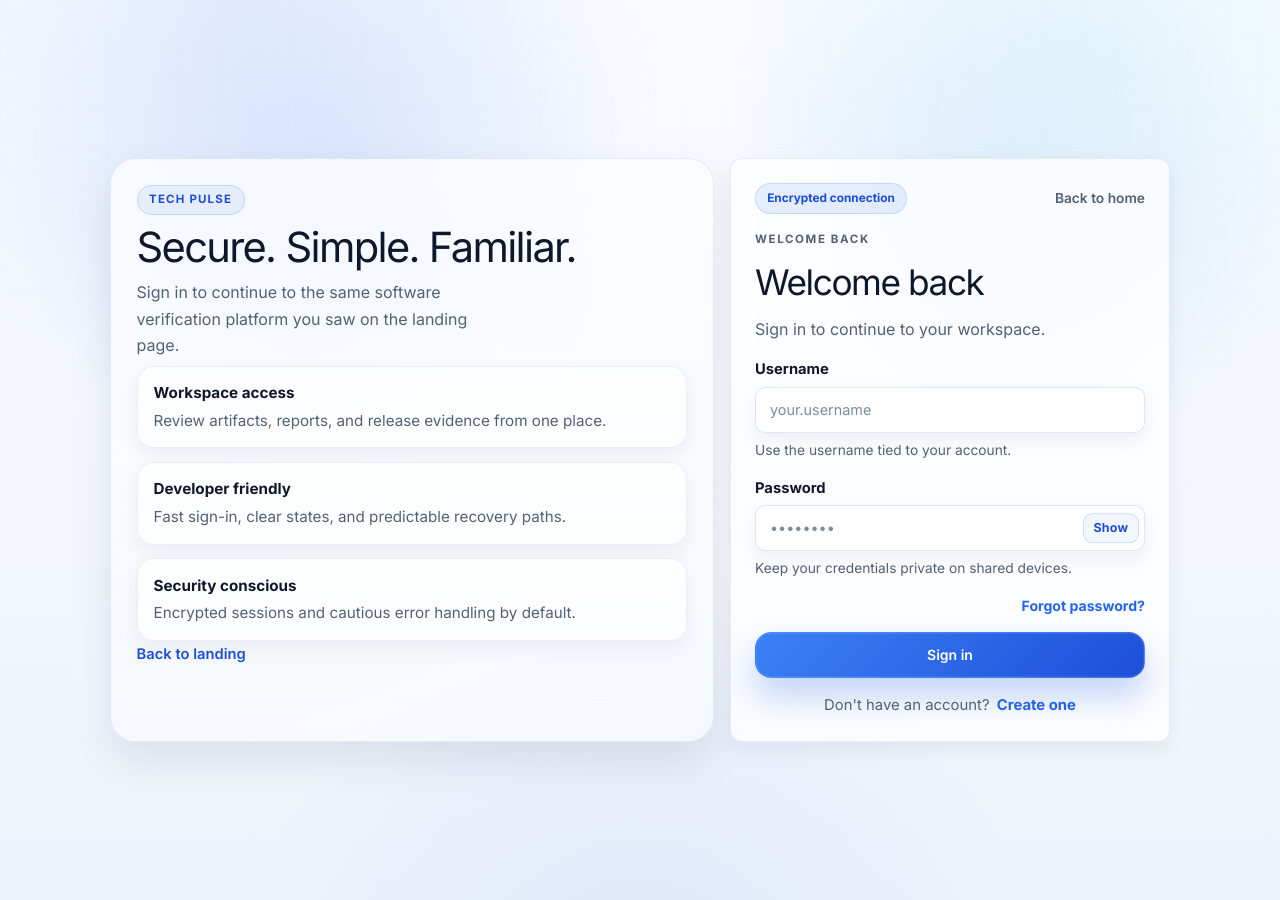
Test: LoginRoutePage › shows an invalid credential notice on 401
This screenshot has width=1280, height=900.
In the field labelled "Username": {"x": 950, "y": 410} [755, 387, 1145, 433], type "ada"
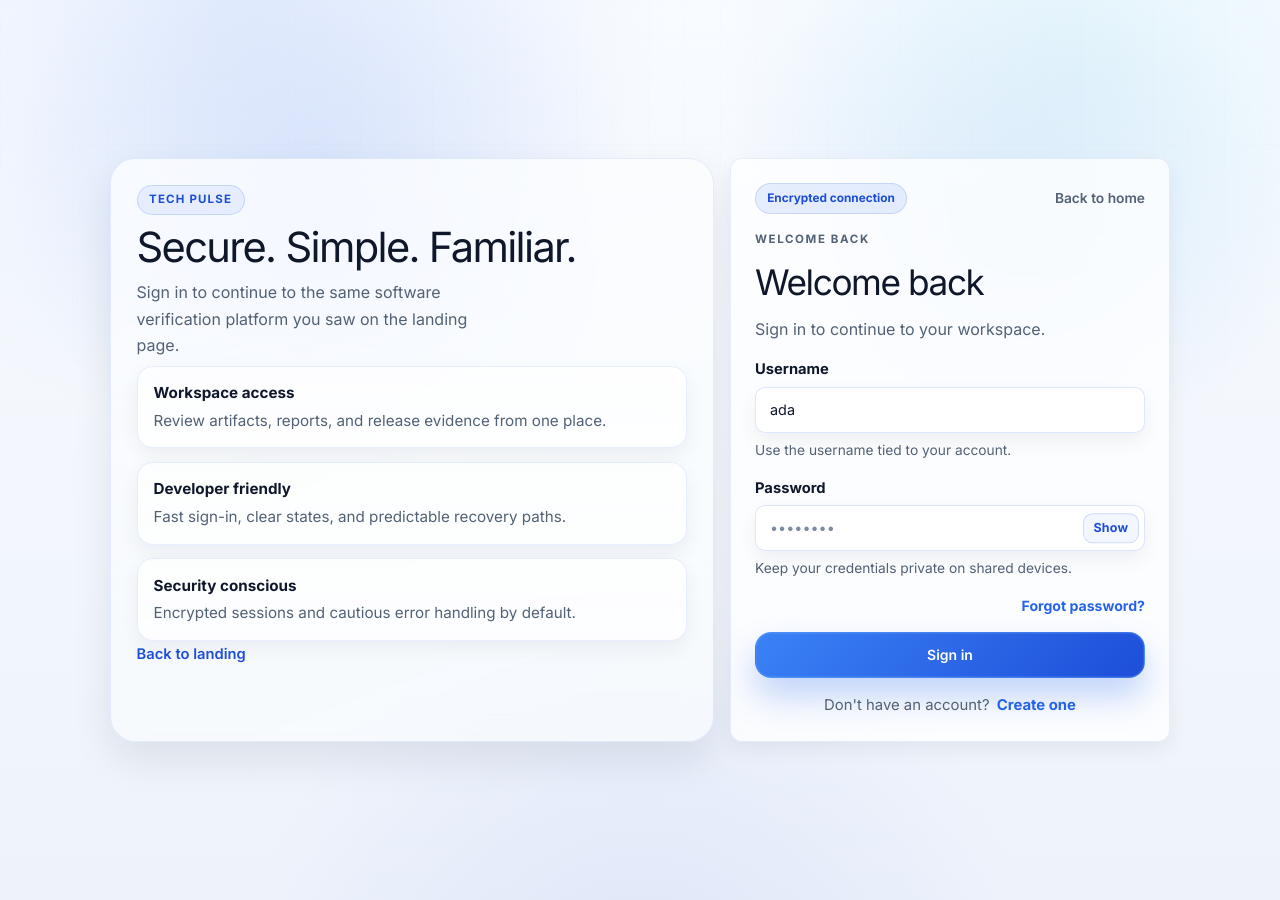
In the password field labelled "Password": {"x": 950, "y": 528} [755, 505, 1145, 551], type "wrong"
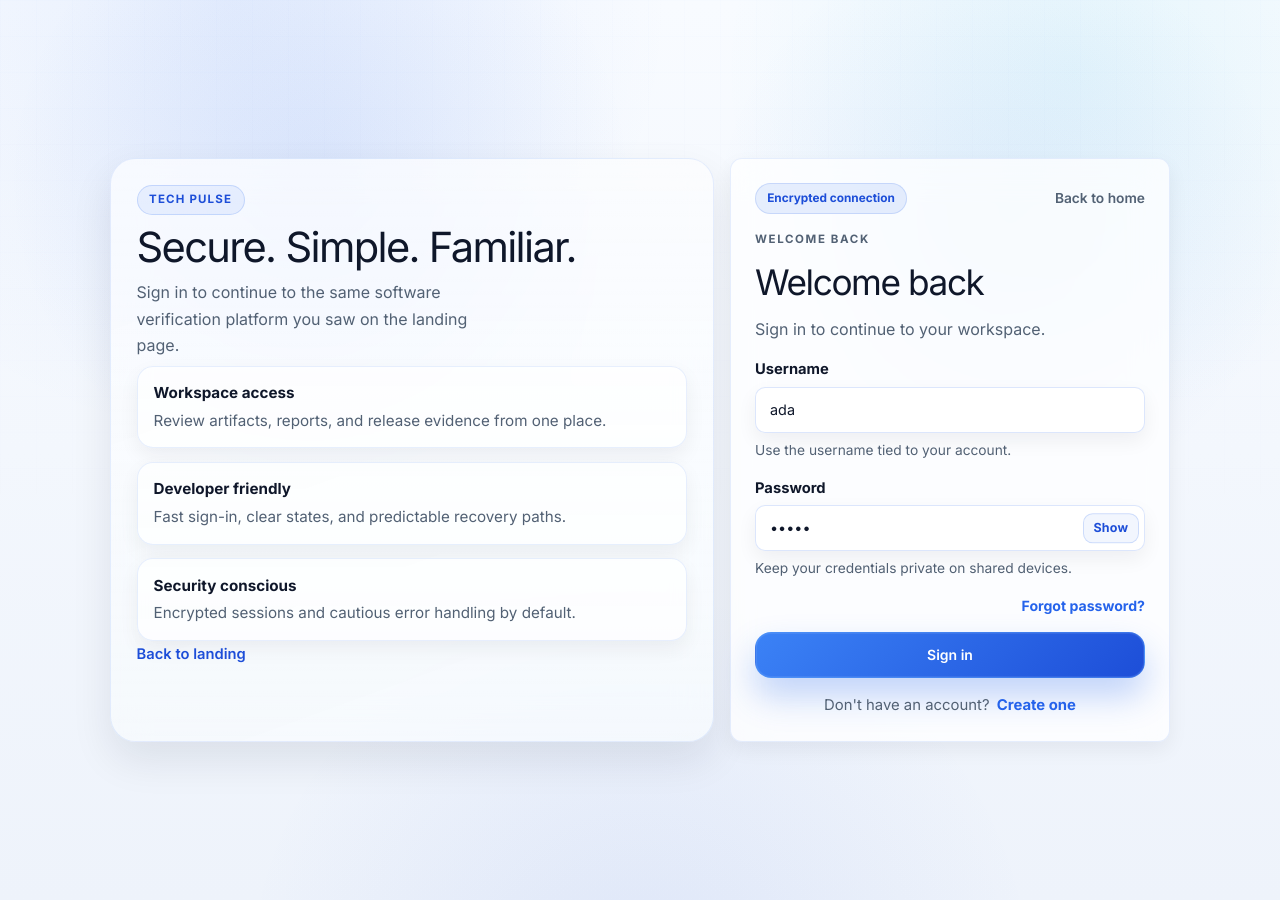
Click the button "Sign in": {"x": 950, "y": 655} [755, 632, 1145, 678]
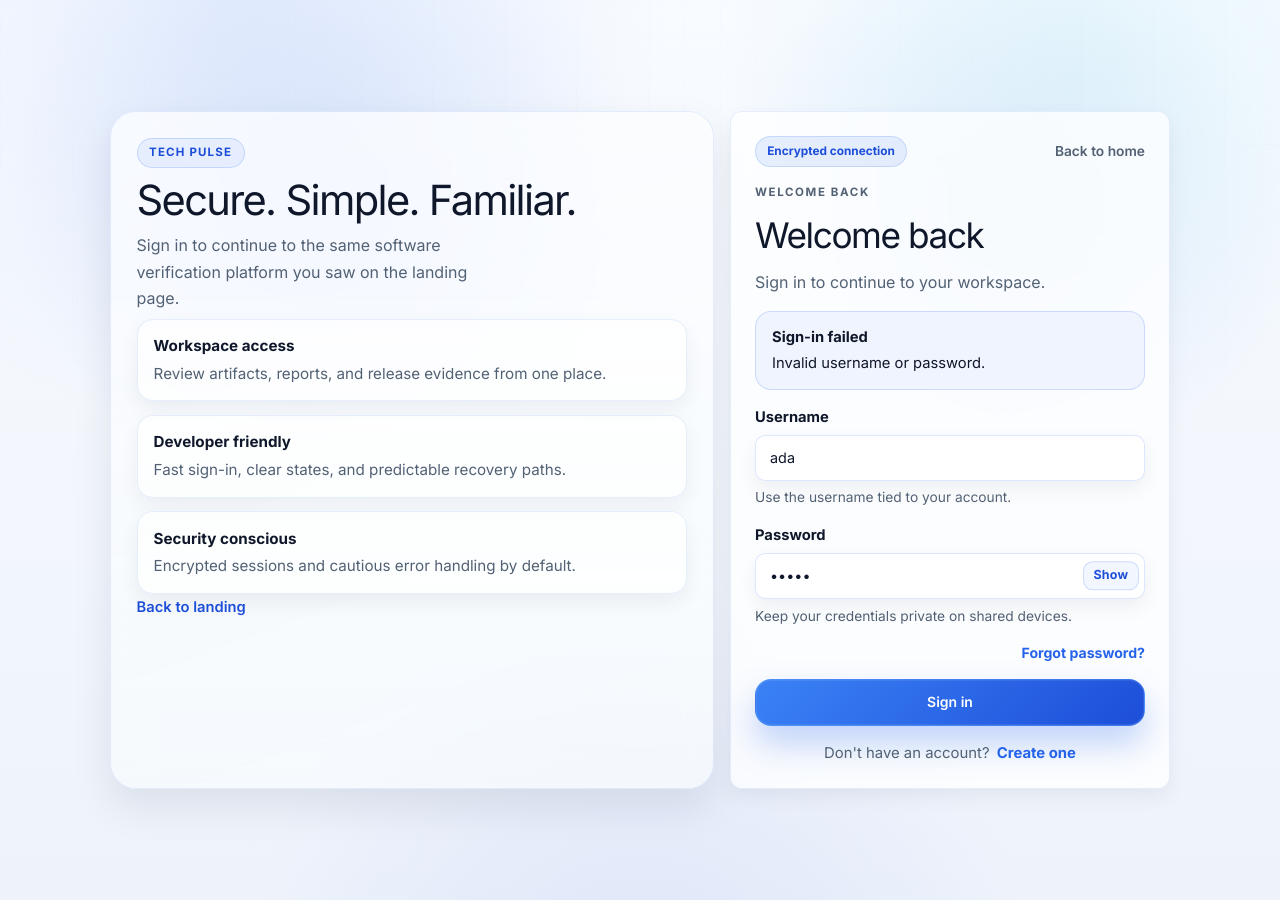
Expected: the text "Sign-in failed" is shown, [772, 328, 868, 346]
Expected: the text "Invalid username or password." is shown, [772, 354, 985, 372]
